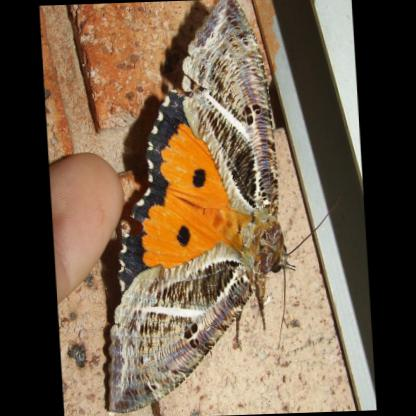fruit sucking moth: (106, 1, 297, 413)
